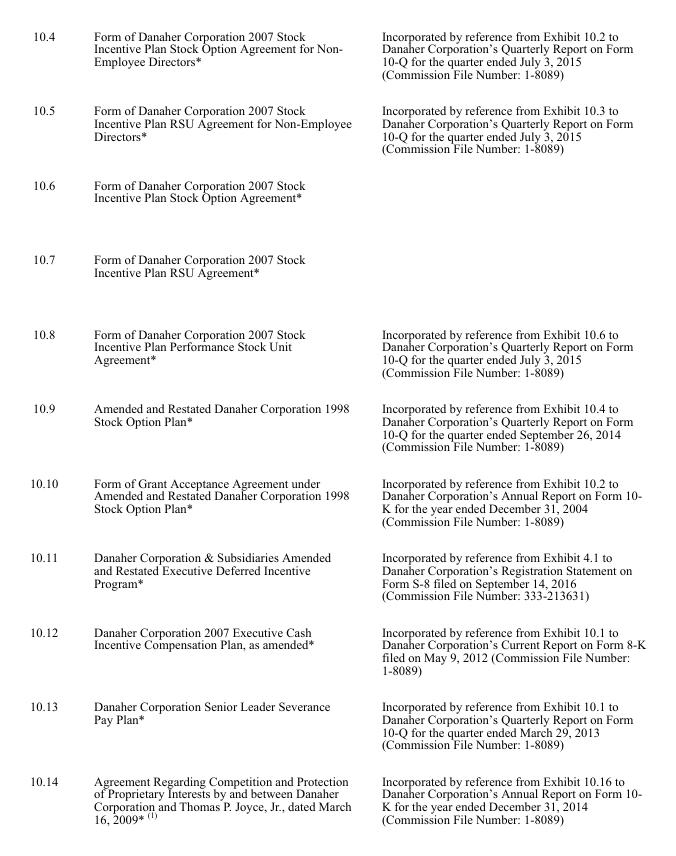table: (28, 28, 645, 825)
table column: (75, 28, 365, 825), (365, 28, 645, 825), (28, 28, 75, 825)
table column header: (28, 28, 645, 91)
table row: (28, 302, 645, 389), (28, 91, 645, 166), (28, 389, 645, 464), (28, 538, 645, 613), (28, 687, 645, 762), (28, 228, 645, 302), (28, 464, 645, 538), (28, 613, 645, 687), (28, 28, 645, 91), (28, 762, 645, 825), (28, 166, 645, 228)
